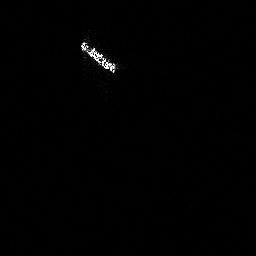ship: (80, 40, 117, 75)
